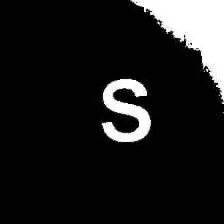LTR_S: (98, 71, 154, 145)
